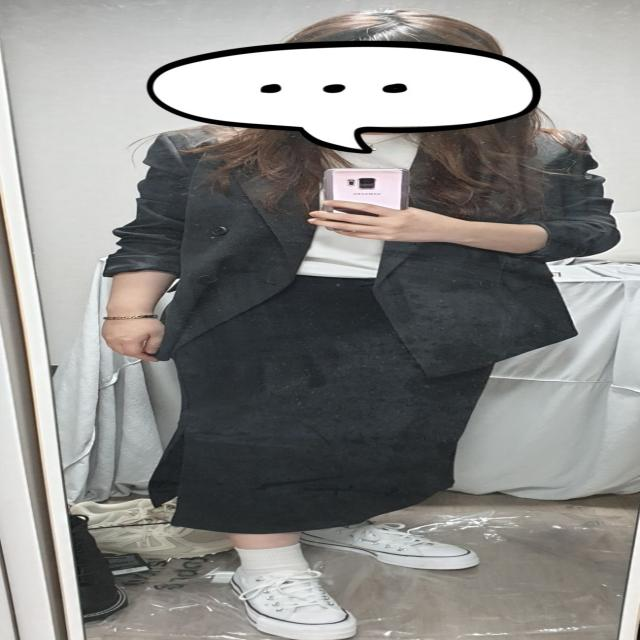blazer: (102, 116, 624, 379)
skirt: (146, 270, 480, 530)
